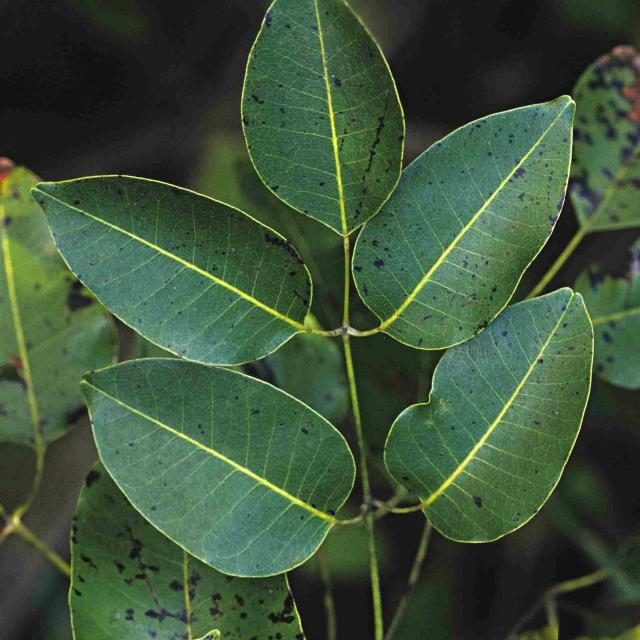green waste: (2, 1, 636, 638)
